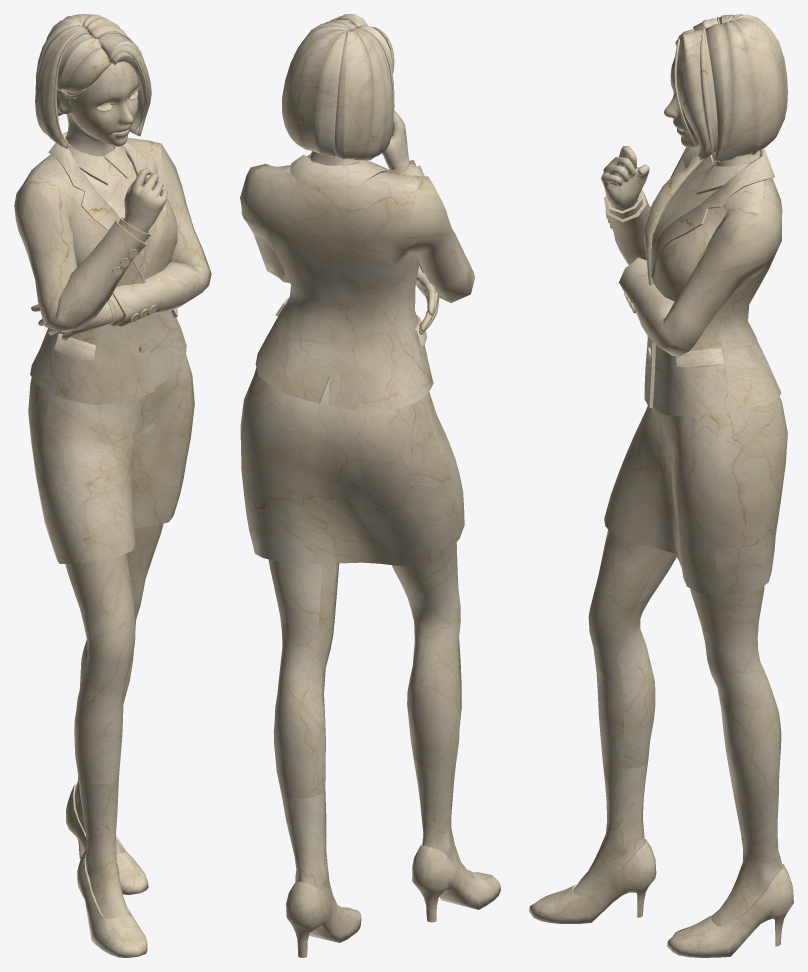
Rendered from Sample_Avatar_W_004.fbx.
3 views of the same model, side by side, from view 1: azimuth 30°, elevation 25°; view 2: azimuth 150°, elevation 25°; view 3: azimuth 270°, elevation 25° (orthographic). The views are drawn at different scales.
Visible parts, largest first — view 1: Sample_Avatar_W_004; view 2: Sample_Avatar_W_004; view 3: Sample_Avatar_W_004.
Part boxes in pixels (<box>): Sample_Avatar_W_004: <box>14,14,211,957</box>; Sample_Avatar_W_004: <box>240,14,500,957</box>; Sample_Avatar_W_004: <box>529,14,793,957</box>.
Size of the model in its own units: 0.3677 by 1.7 by 0.4451.
